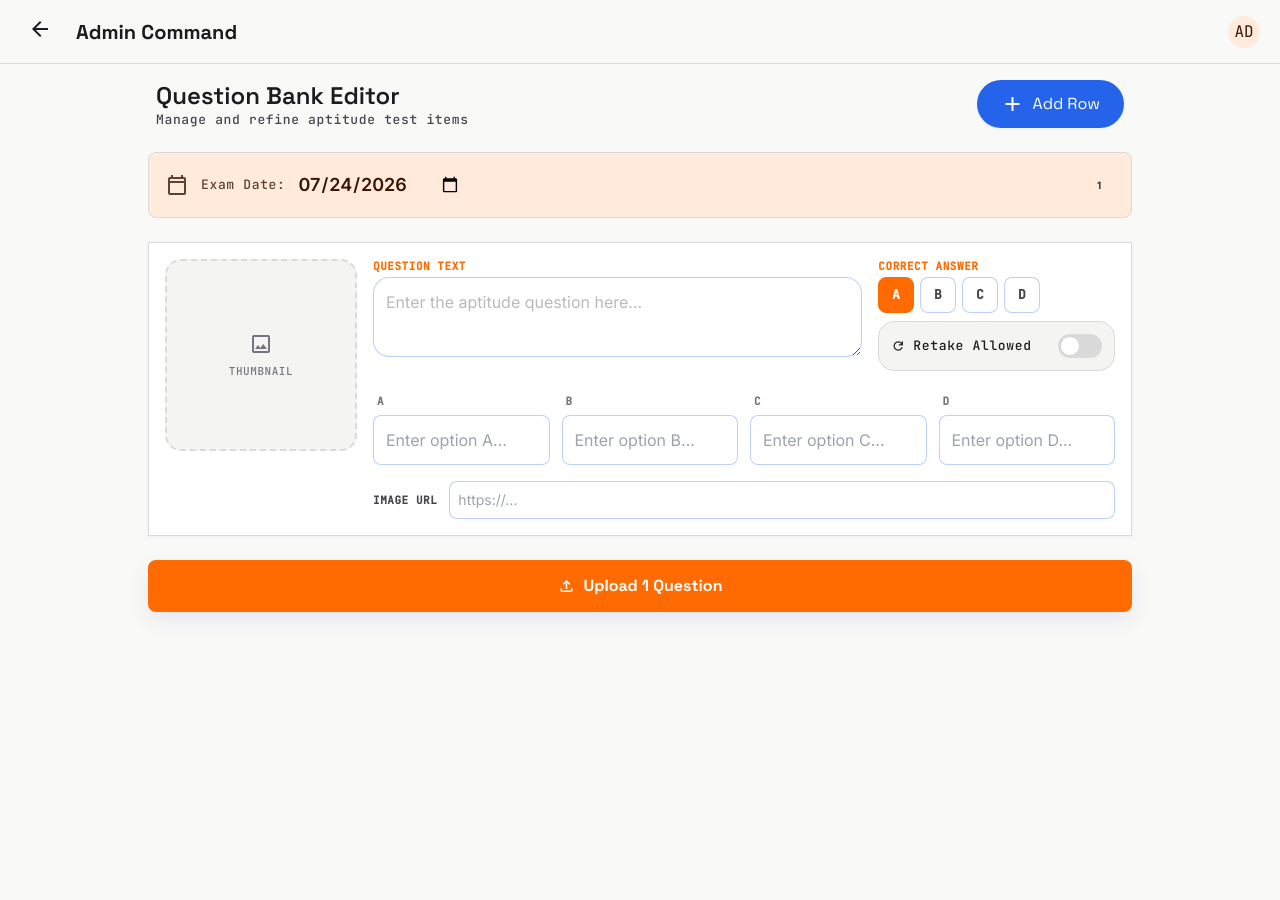
Scenario: TeacherUpload › validates empty question text on submit
Click the button "Upload 1 Question" at (640,586), box [148,560,1132,612]
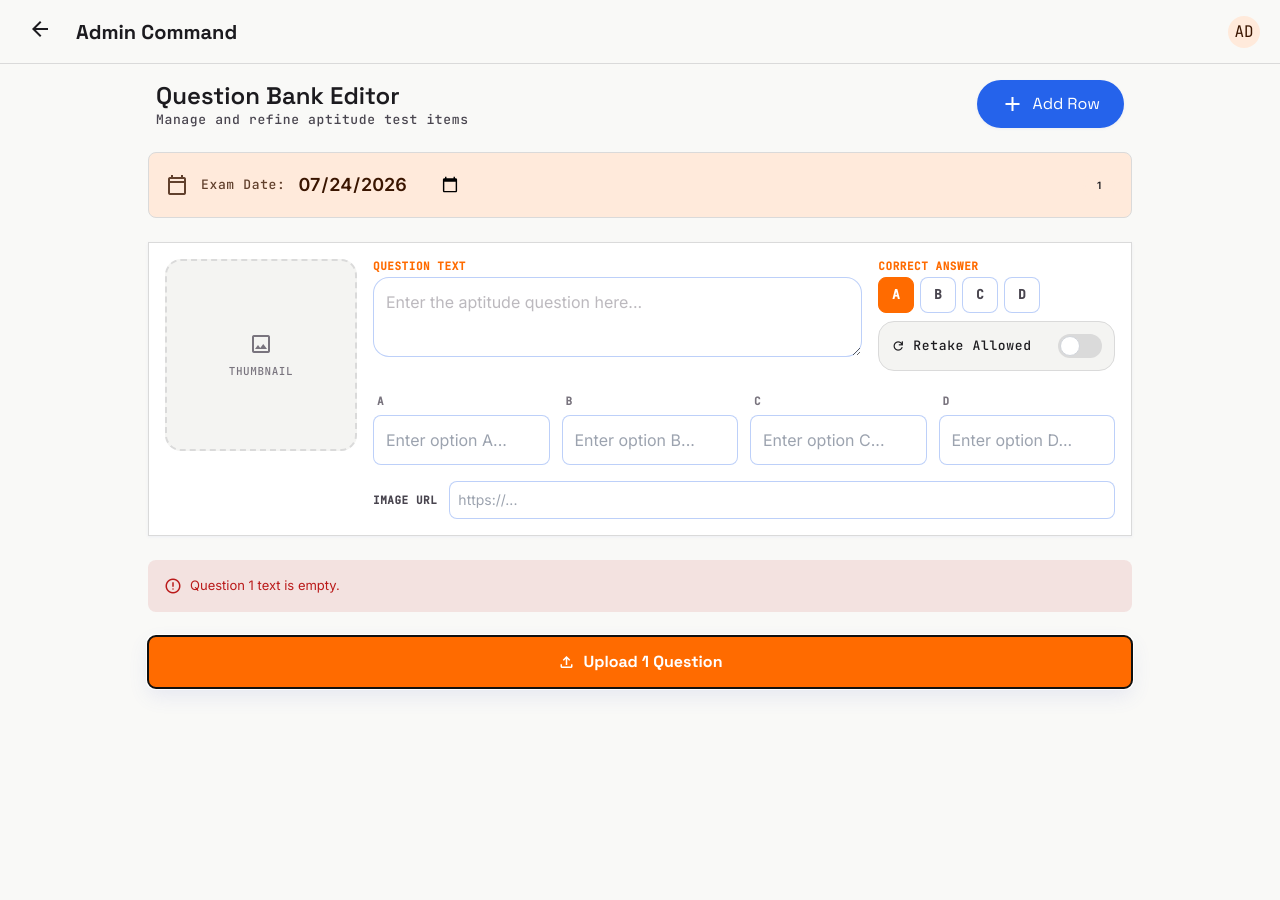
Check: the text "Question 1 text is empty." is shown, box [190,576,340,596]
